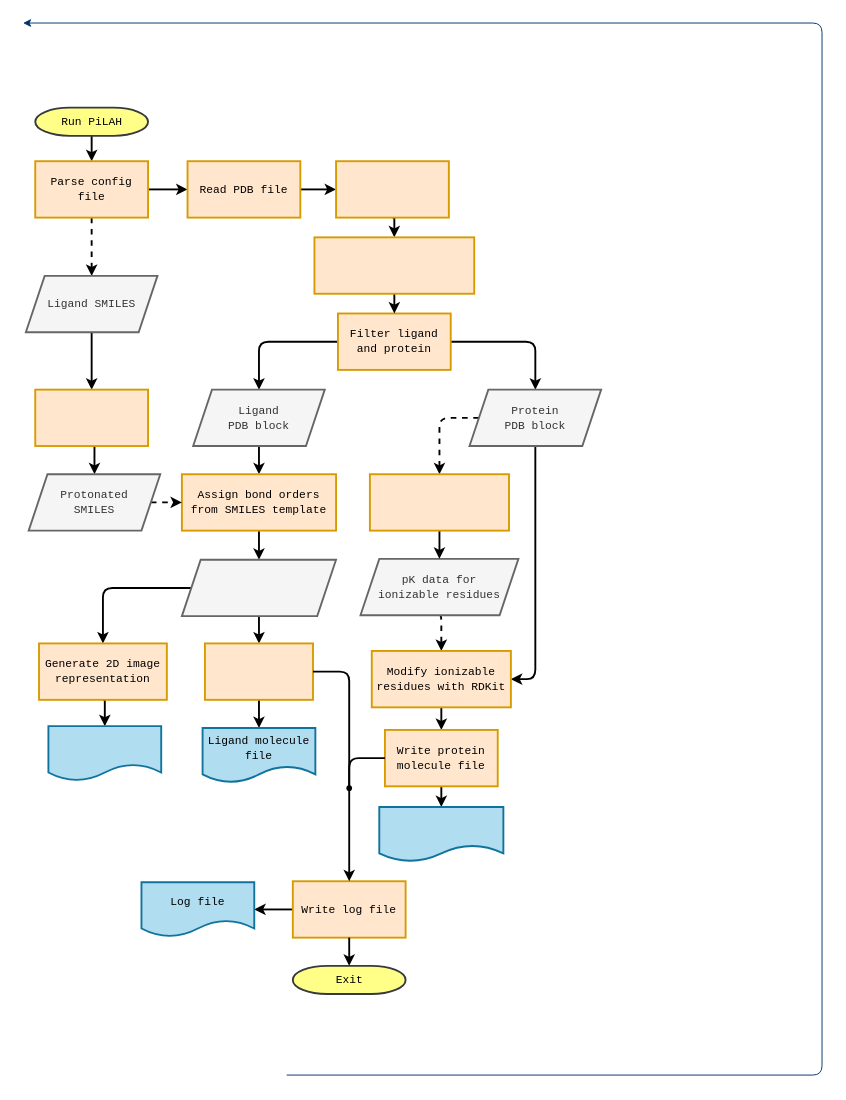
This 846x1100 diagram has some shape labels left out. Each missing label, with the centre of its shape:
"Fix insertion" belongs at (x=392, y=189).
"Generate pK values using pKAI" belongs at (x=438, y=502).
"Ligand image file" belongs at (x=104, y=753).
"Protein molecule file" belongs at (x=441, y=834).
"Protonate with Dimorphite-DL" belongs at (x=91, y=417).
"Protonated ligand RDKit mol object" belongs at (x=258, y=587).
"Remove residue with missing atoms or incorrect bond" belongs at (x=394, y=265).
"Write ligand molecule file" belongs at (x=258, y=671).
